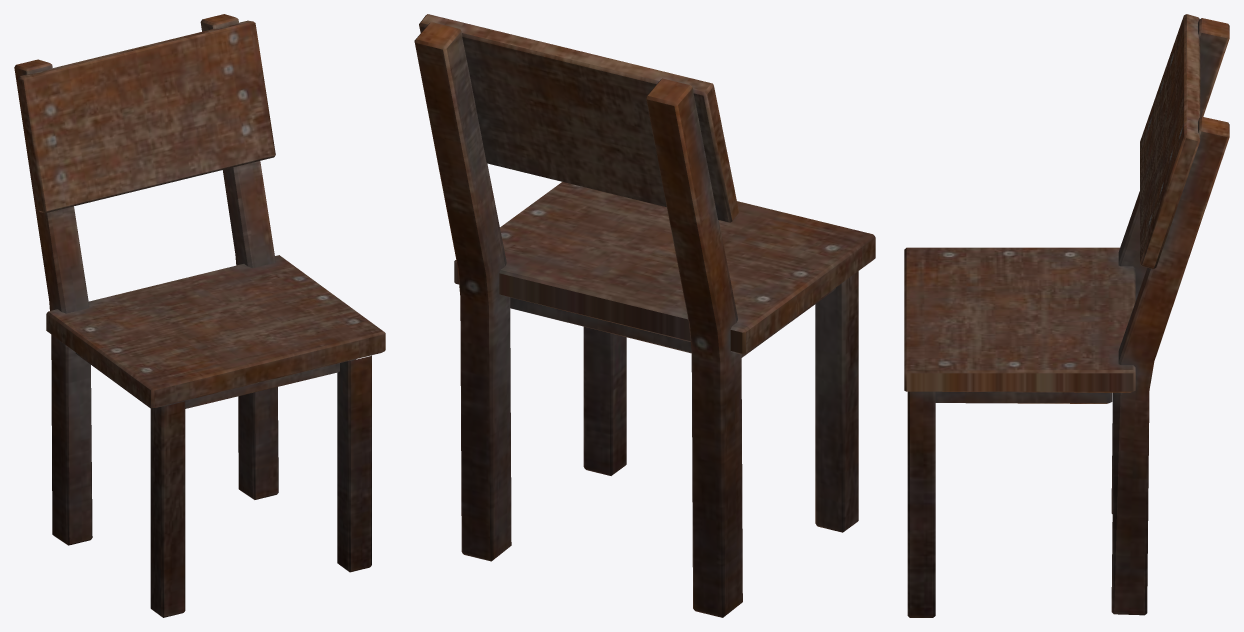
The picture shows the model from 3 angles, left to right: view 1: azimuth 30°, elevation 25°; view 2: azimuth 150°, elevation 25°; view 3: azimuth 270°, elevation 25°; orthographic projection. The views are drawn at different scales.
Parts seen in each view (by area): view 1: chair; view 2: chair; view 3: chair.
Part boxes in pixels (x1,y1,x2,y2): chair: (14,14,385,617); chair: (414,14,875,617); chair: (904,14,1229,617).
Bounding box in the file's own units: 0.4901 × 0.9 × 0.5421.
Materials: 1 (1 with a texture image).
